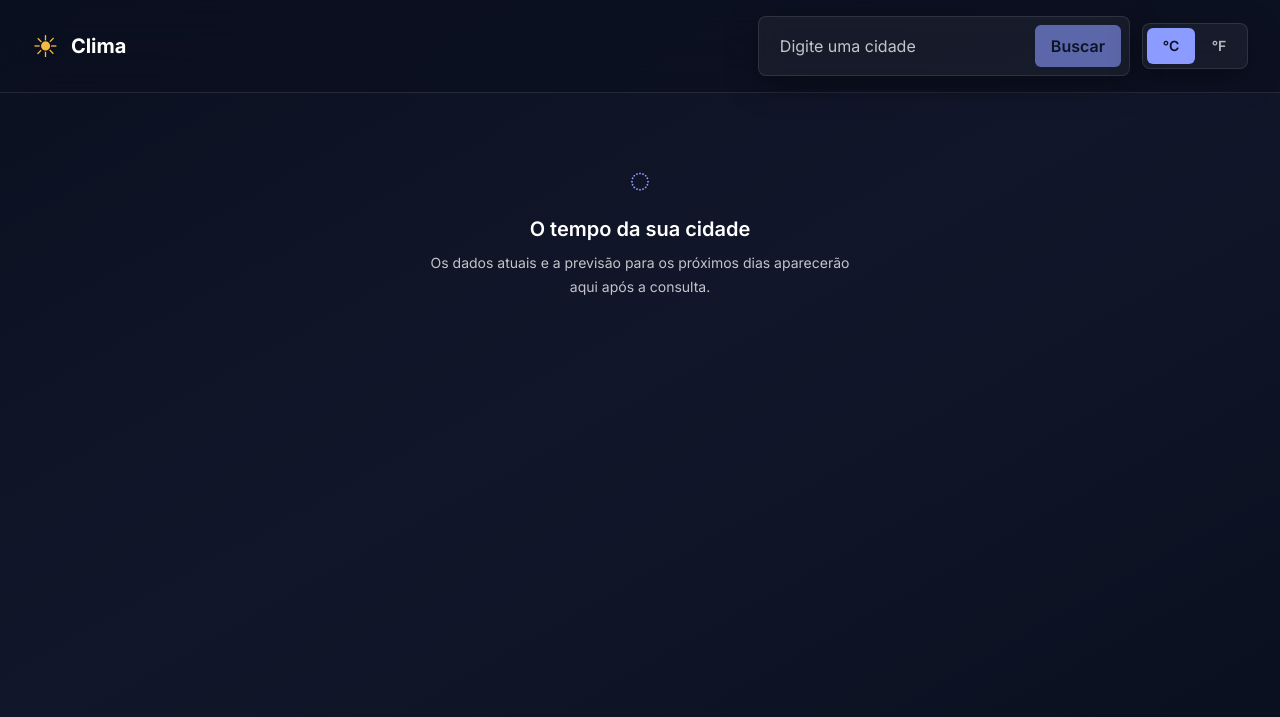
App › shows service errors and retries the last search with focus returned to main
This screenshot has width=1280, height=717.
Type "Recife" into the search field named "Buscar cidade".
click(897, 46); type("Recife")  # box [767,25,1027,67]
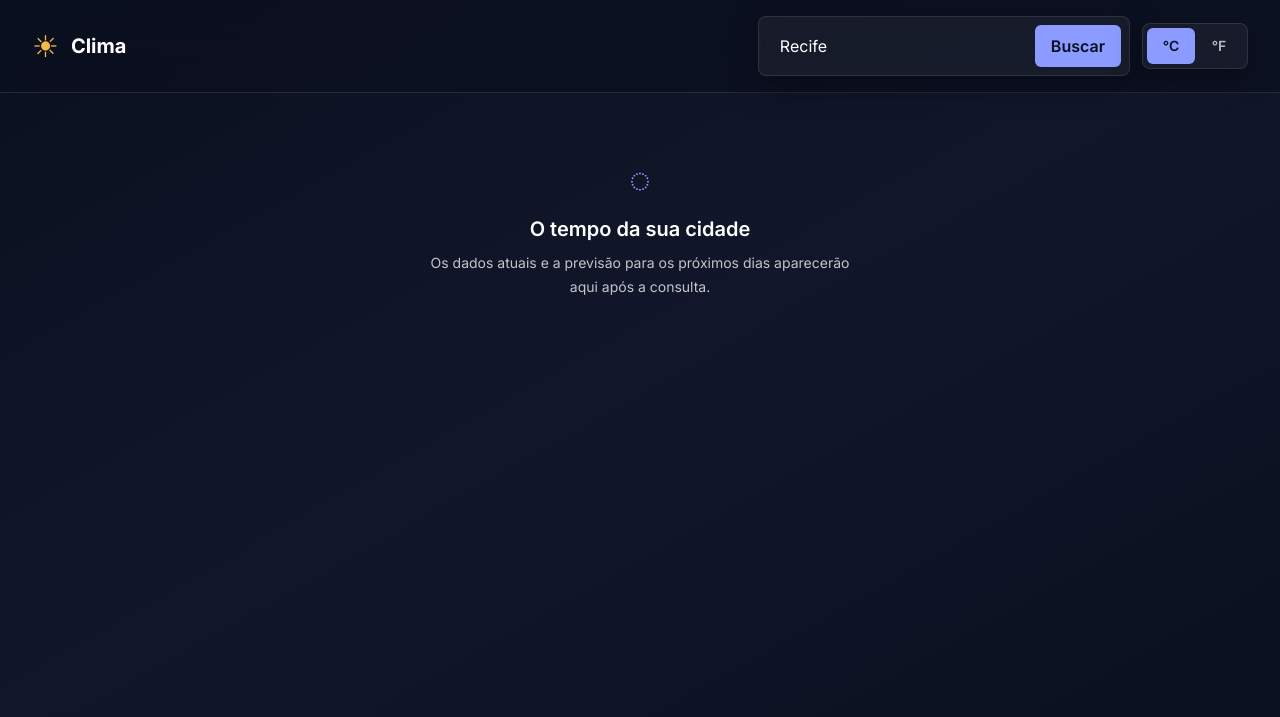
Submit the form, box [758,16,1130,76]
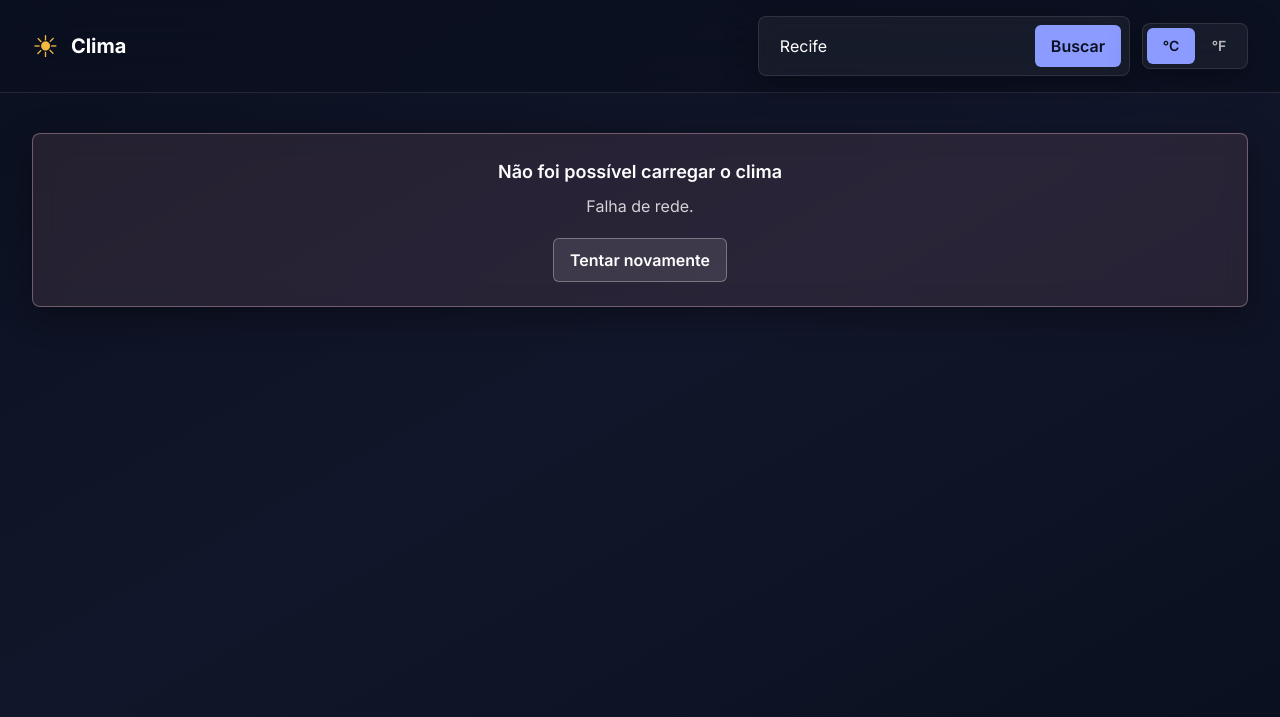
expect the message reads "Falha de rede.": met, box [586,196,694,216]
Click the button "Tentar novamente".
click(640, 260)  # box [553,238,727,282]
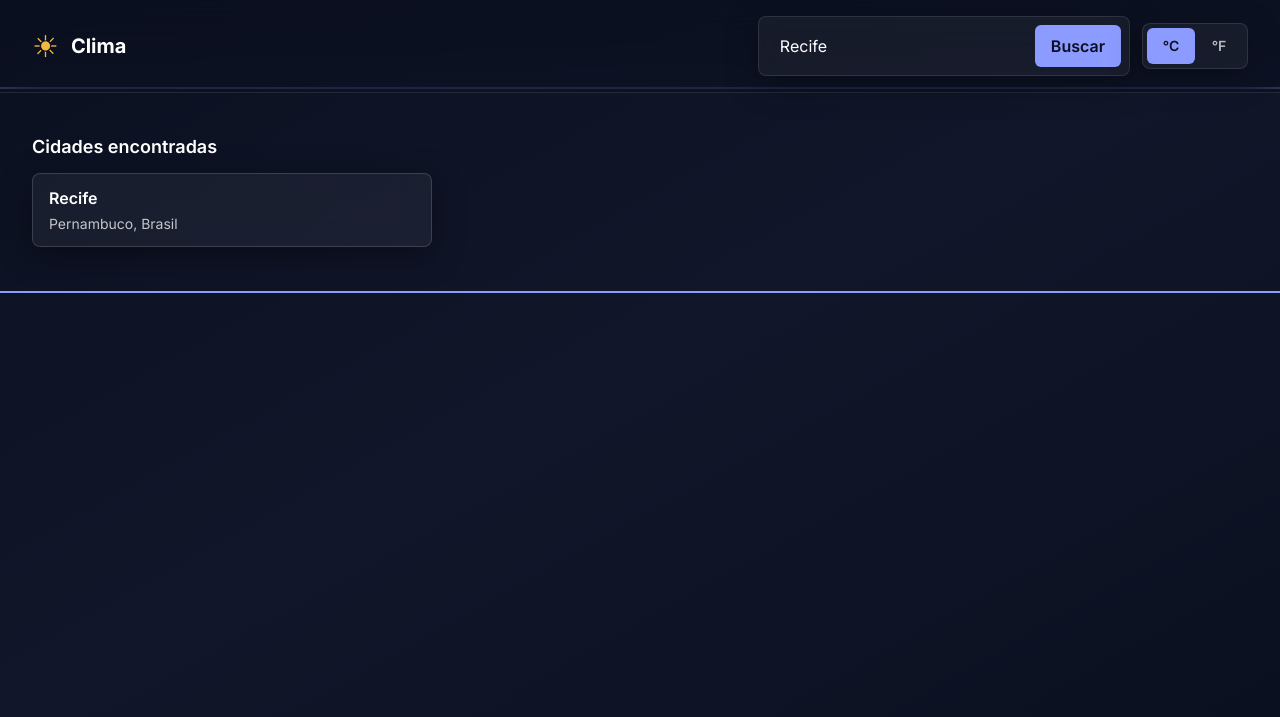
expect the element "Cidades encontradas" is shown: met, box [32,136,432,247]
Click the button "Recife Pernambuco, Brasil".
click(73, 198)  # box [32,173,432,247]
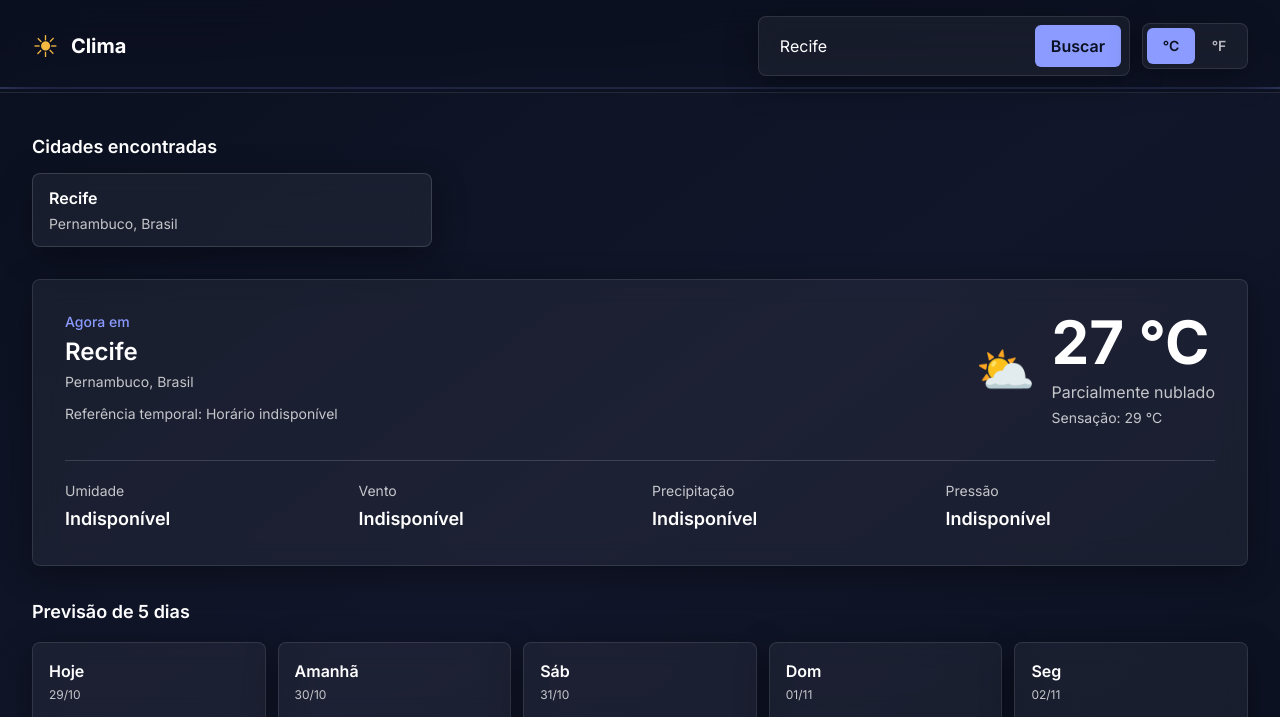
expect the heading "Recife" is shown: met, box [65,337,138,366]
